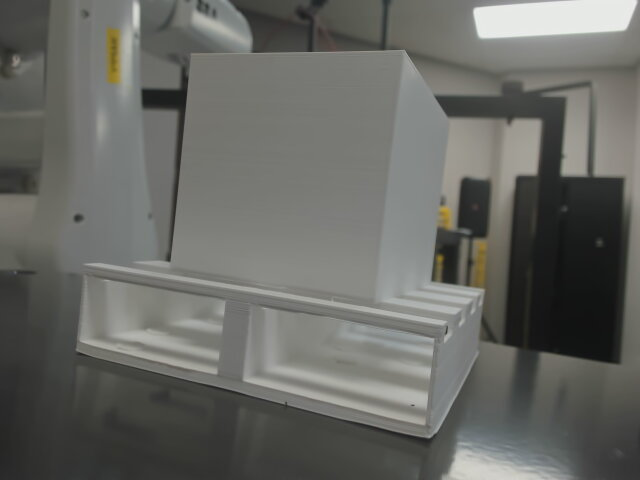white pallet: (64, 46, 506, 448)
